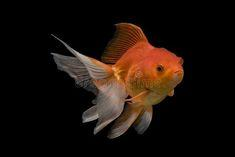goldfish: (62, 37, 195, 133)
